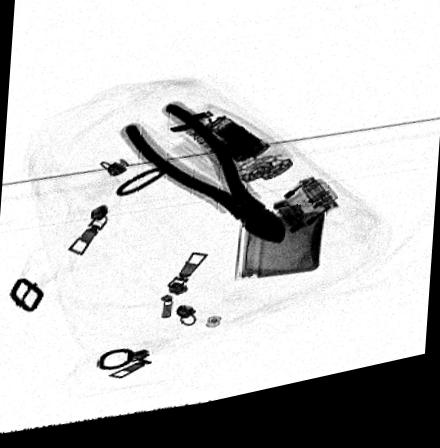Pliers: (119, 110, 287, 255)
